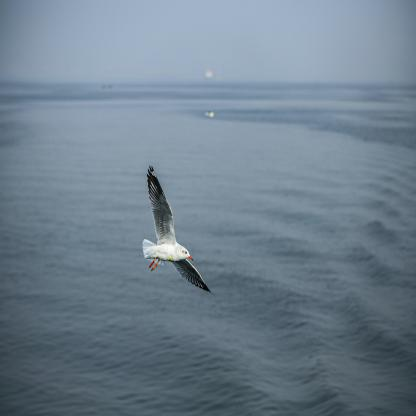bird: (142, 165, 213, 295)
